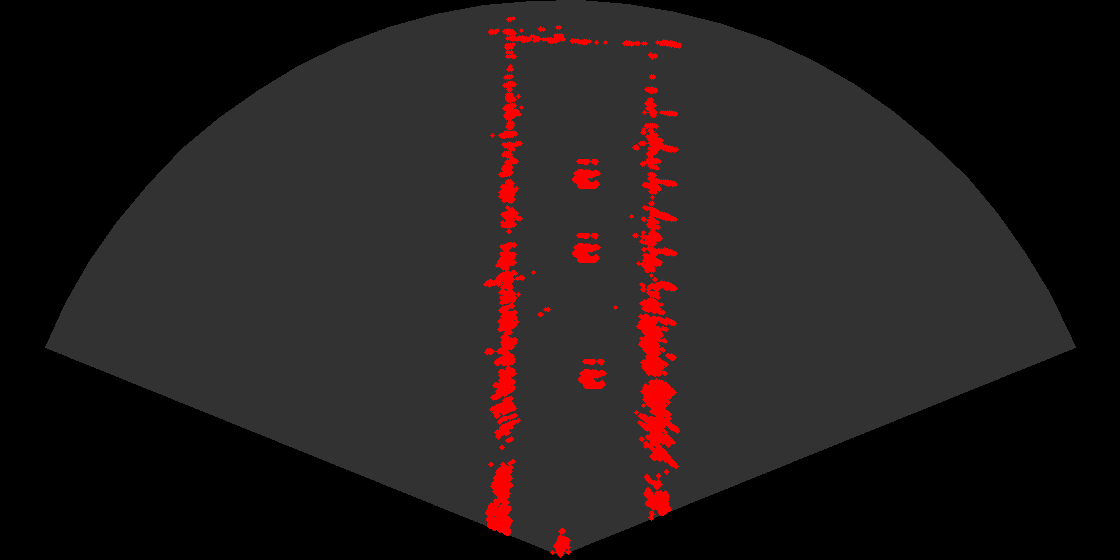ball: (558, 351, 618, 392), (552, 225, 612, 266), (552, 151, 612, 192)
